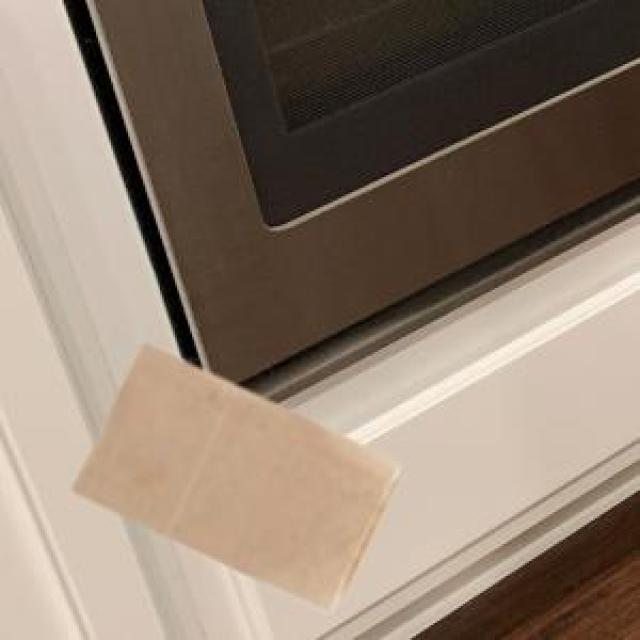paper: (68, 339, 395, 606)
